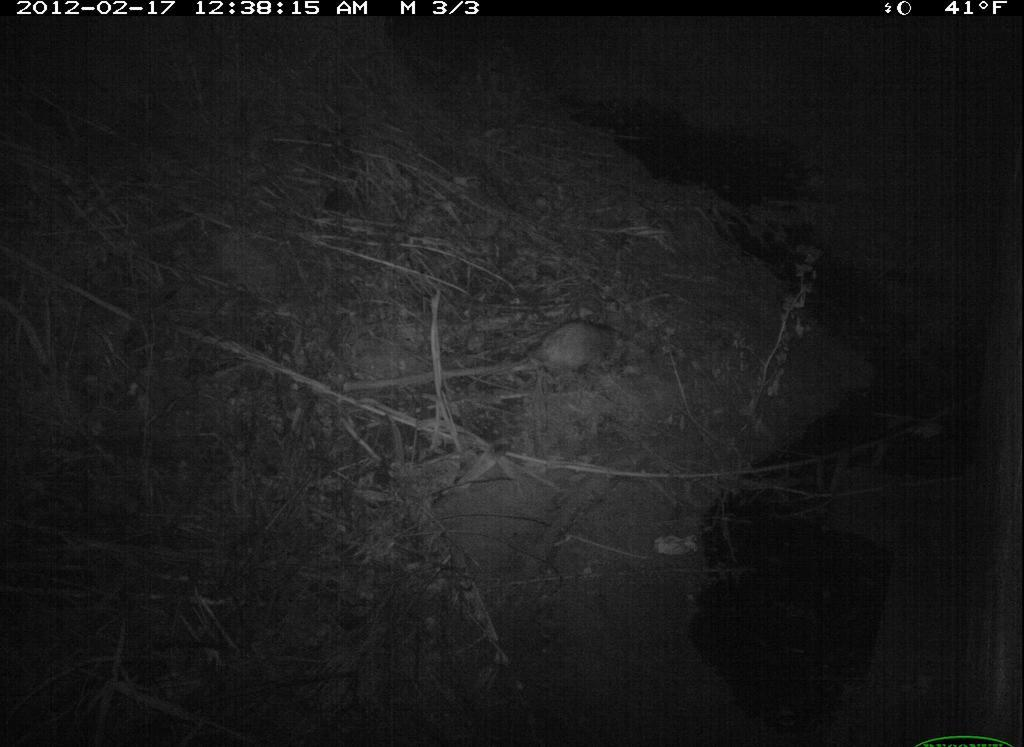opossum: (479, 304, 644, 391)
